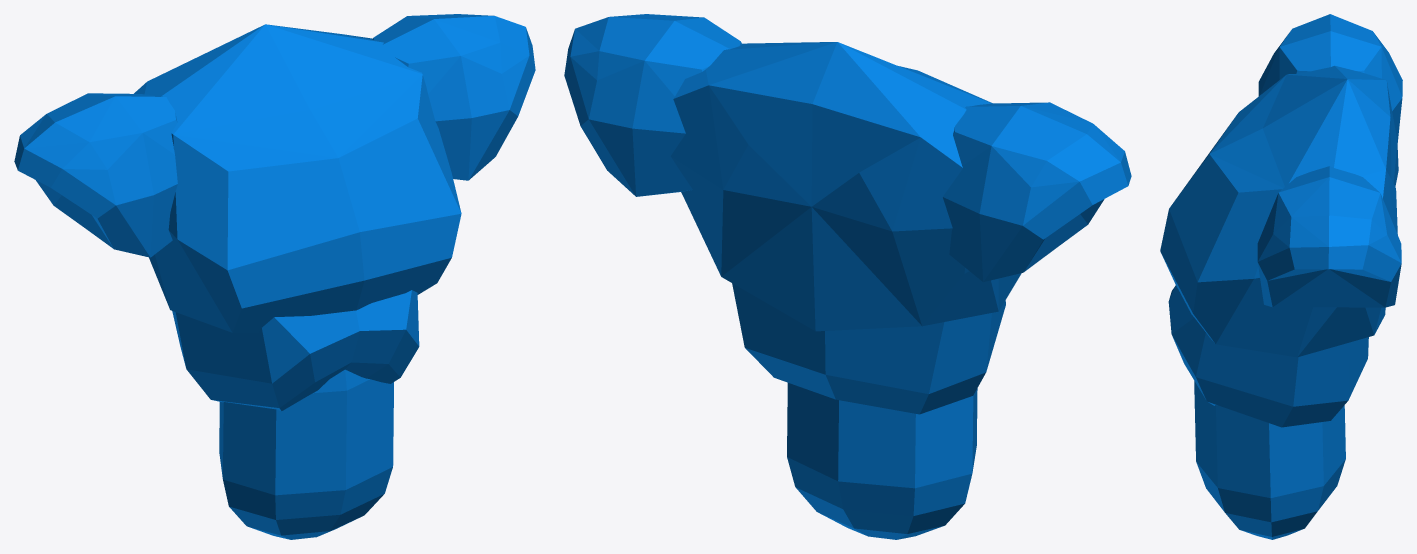
File: Avatar_torso.fbx
The picture shows the model from 3 angles, left to right: view 1: azimuth 30°, elevation 25°; view 2: azimuth 150°, elevation 25°; view 3: azimuth 270°, elevation 25°; orthographic projection. The views are drawn at different scales.
Visible parts, largest first — view 1: Torso; view 2: Torso; view 3: Torso.
Part boxes in pixels (box(x1,y1,x2,y2)): Torso: box(14, 14, 535, 539); Torso: box(564, 14, 1131, 539); Torso: box(1160, 14, 1402, 539).
Bounding box in the file's own units: 215 × 192 × 93.32.
